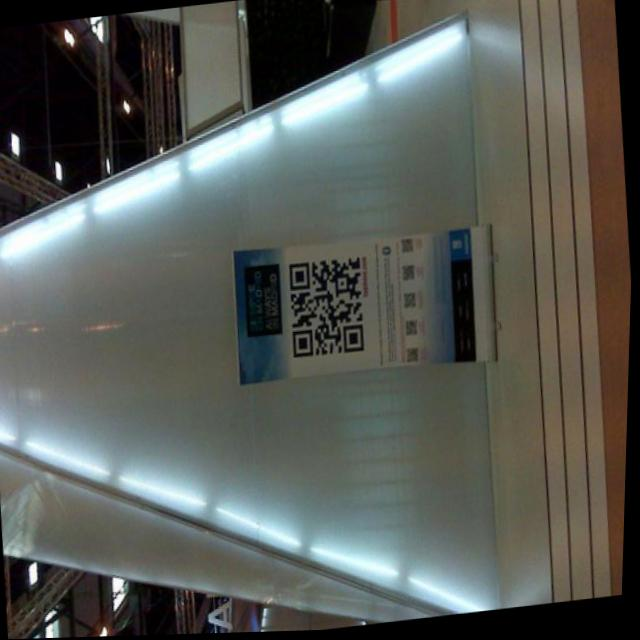qrcode: (287, 259, 369, 361), (403, 240, 415, 254), (408, 323, 419, 336), (407, 295, 418, 308), (410, 351, 421, 363), (405, 268, 415, 281)
